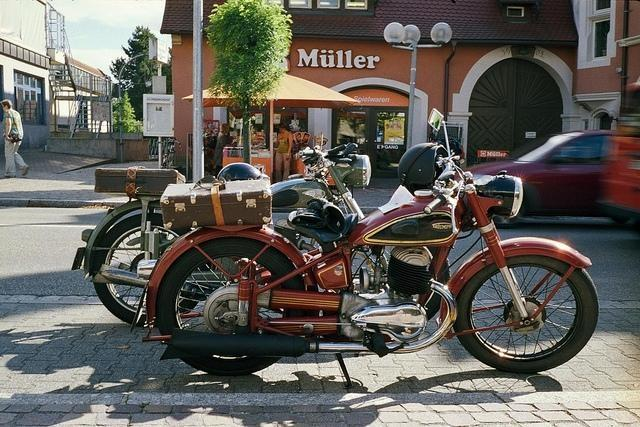car: (464, 128, 610, 228), (596, 114, 640, 224)
motorcycle: (143, 106, 601, 393), (68, 142, 374, 328)
